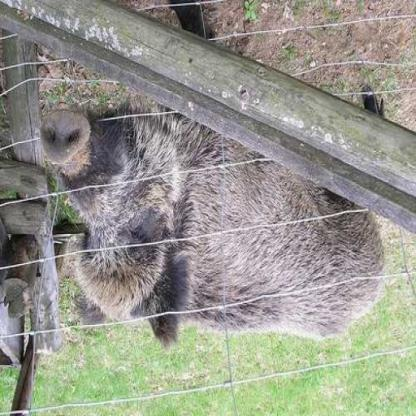boar: (50, 95, 398, 362)
